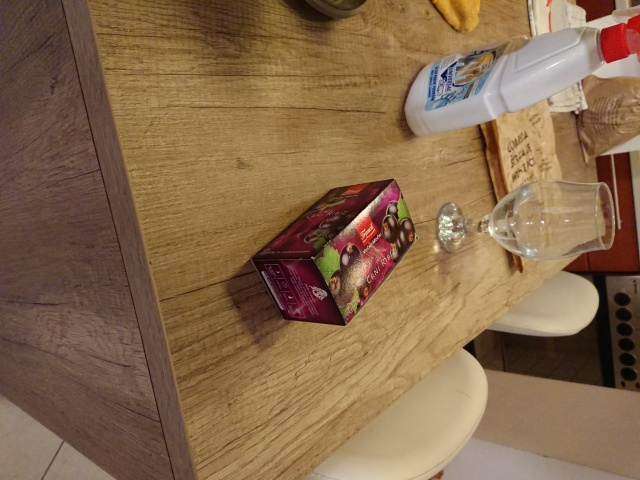Franck Black Currant Tea 60g: (248, 177, 421, 327)
